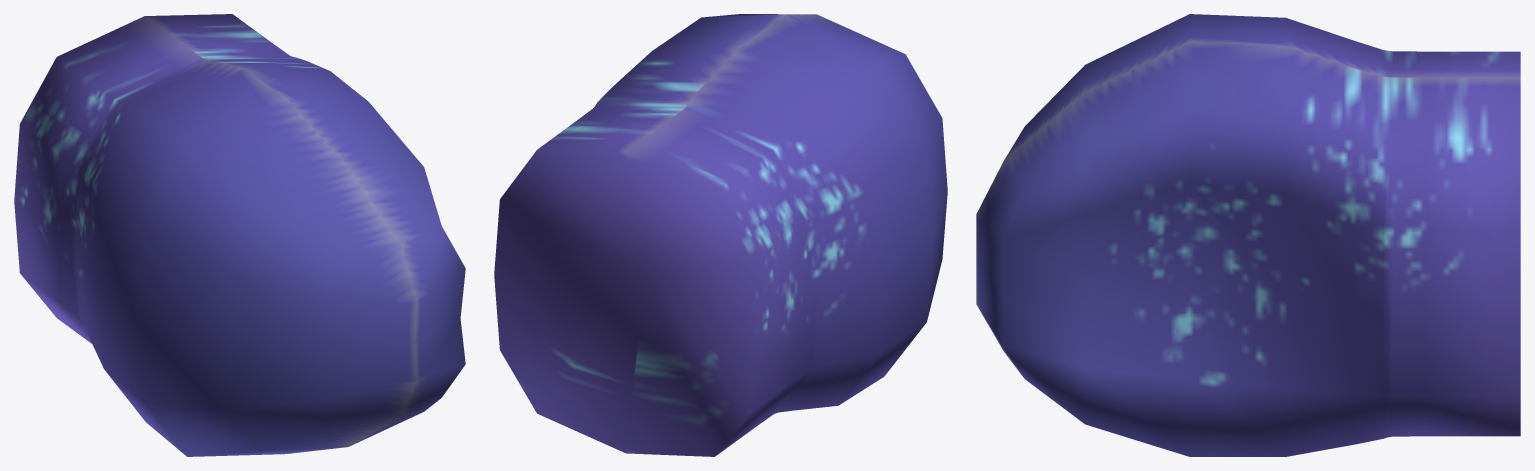
File: RightHand.fbx
3 views of the same model, side by side, from view 1: azimuth 30°, elevation 25°; view 2: azimuth 150°, elevation 25°; view 3: azimuth 270°, elevation 25° (orthographic). The views are drawn at different scales.
Parts seen in each view (by area): view 1: RightHand; view 2: RightHand; view 3: RightHand.
Part boxes in pixels (bbox=[...]): RightHand: bbox=[14, 14, 465, 456]; RightHand: bbox=[494, 14, 947, 456]; RightHand: bbox=[976, 14, 1520, 456].
Size of the model in its own units: 1.71 by 2.04 by 2.55.
1 material, 1 textured.
